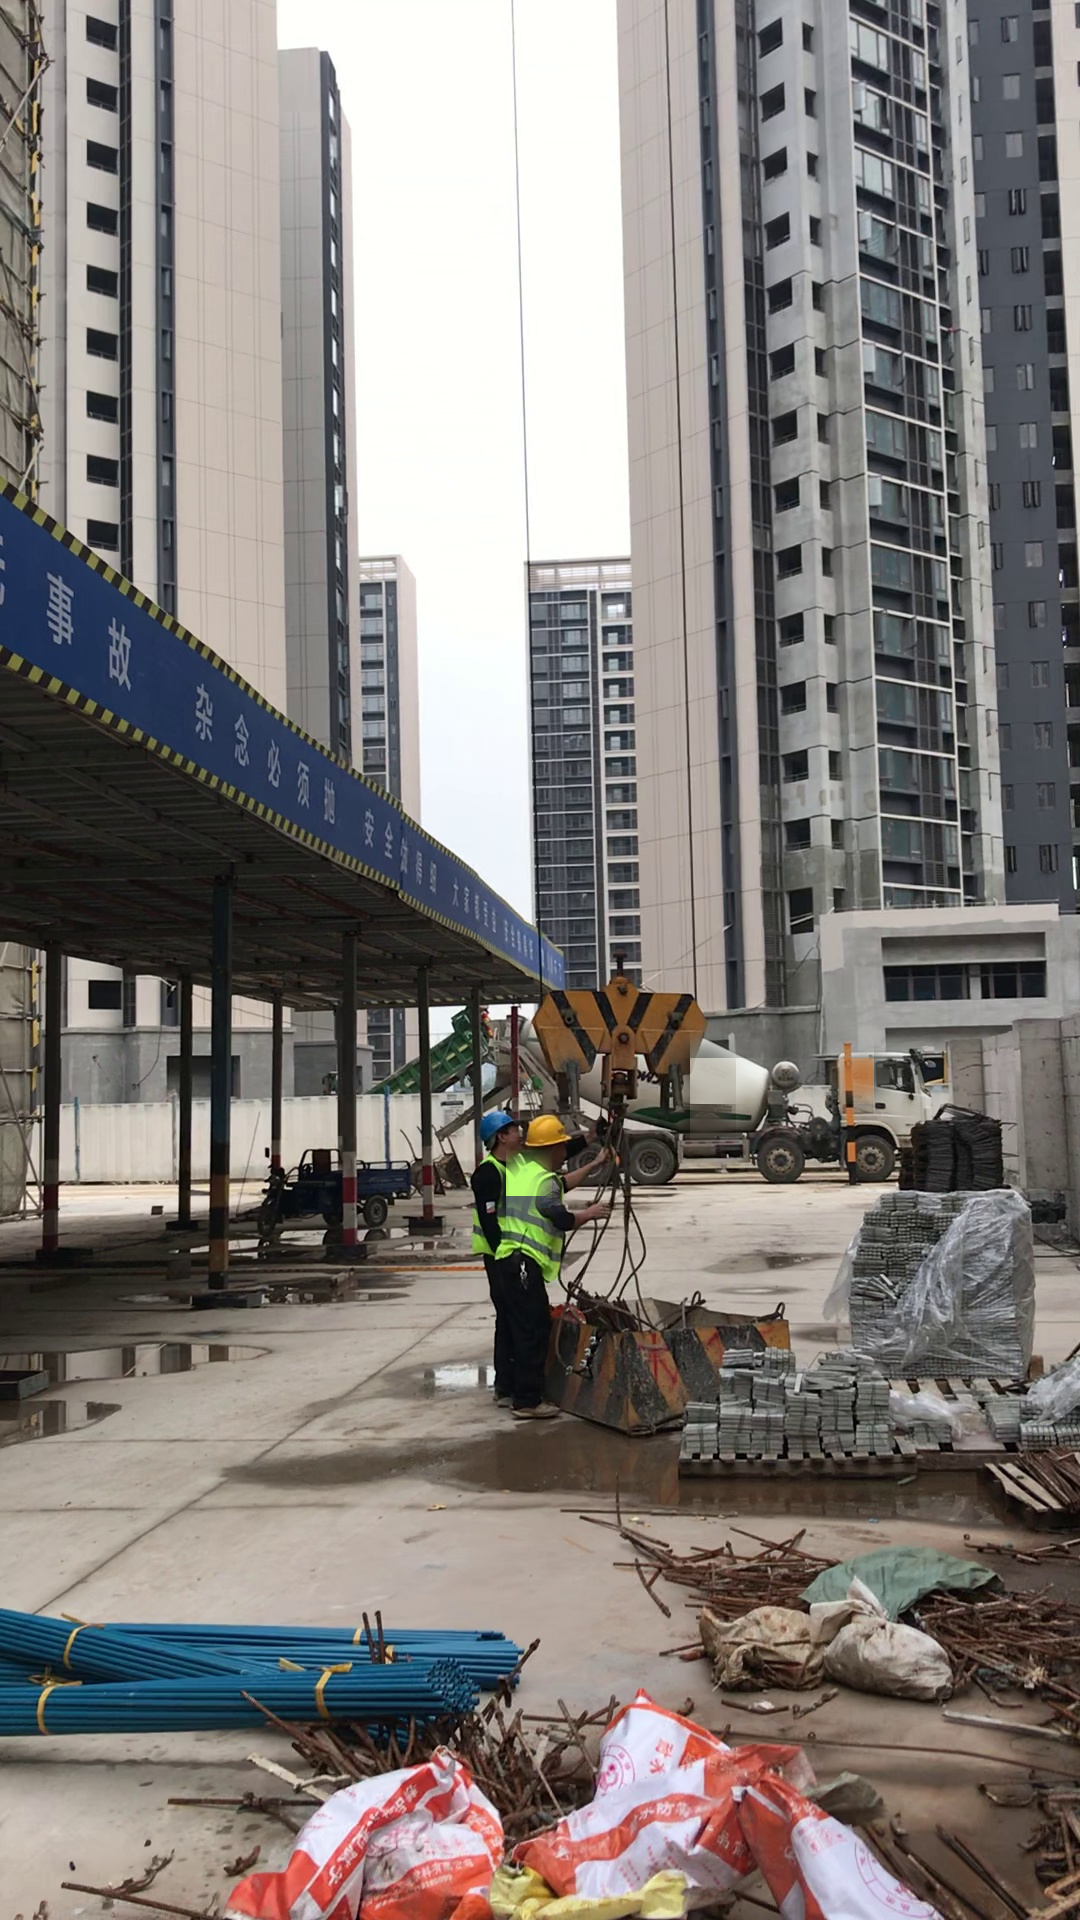helmet: (524, 1108, 574, 1156), (470, 1111, 507, 1141)
hook: (530, 945, 703, 1108)
person: (503, 1115, 585, 1402), (457, 1108, 513, 1273)
slogan: (5, 501, 561, 994)
vest: (514, 1163, 584, 1273)
